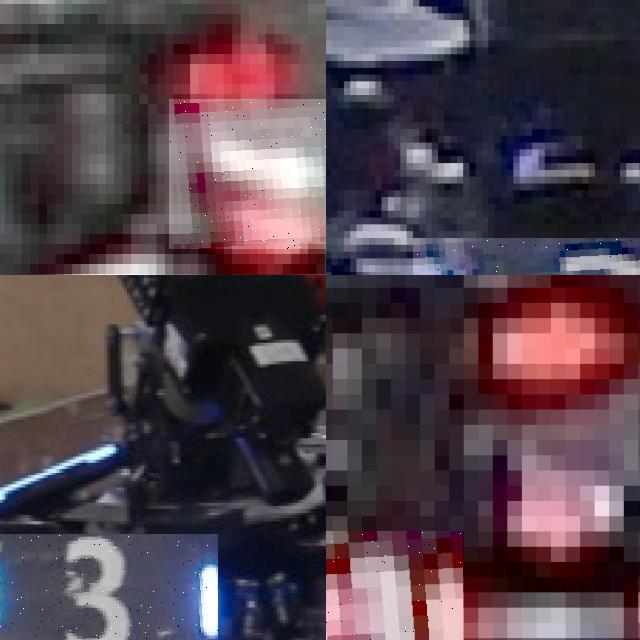B3: (0, 533, 217, 640), (413, 238, 640, 275)
R3: (326, 531, 463, 640)
R4: (169, 99, 326, 249)
